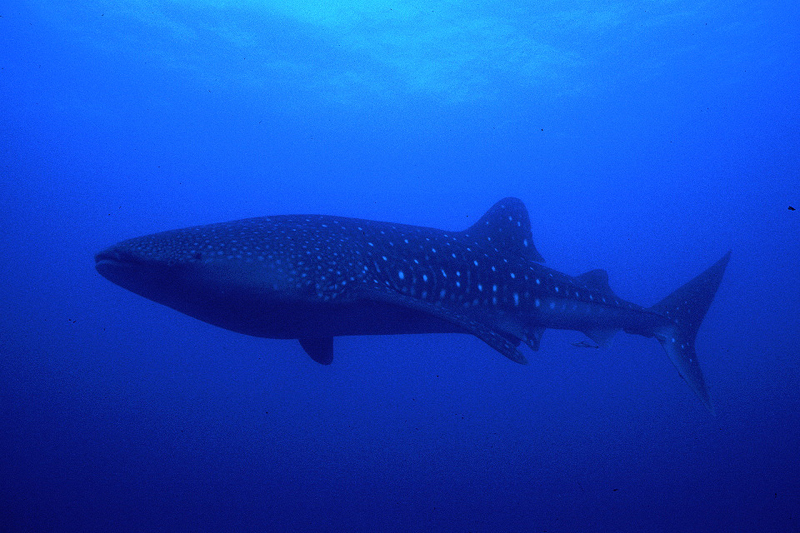Rhincodon_typusw: (88, 167, 735, 433)
